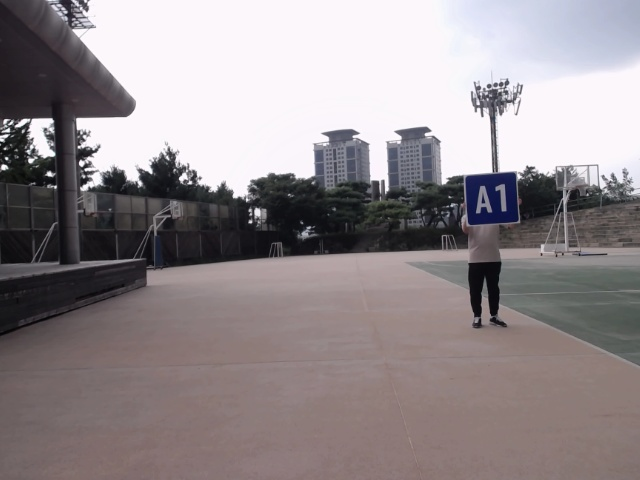delivery_a1: (464, 172, 518, 225)
